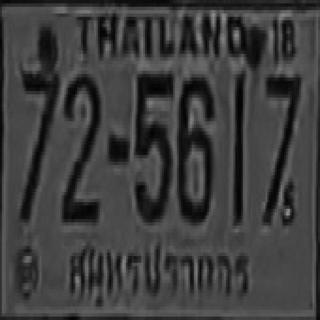N01: (232, 71, 244, 222)
N02: (61, 71, 99, 222)
N05: (134, 71, 171, 219)
N06: (177, 74, 213, 222)
N07: (19, 66, 58, 221), (262, 71, 299, 222)
P57: (65, 234, 256, 312)
